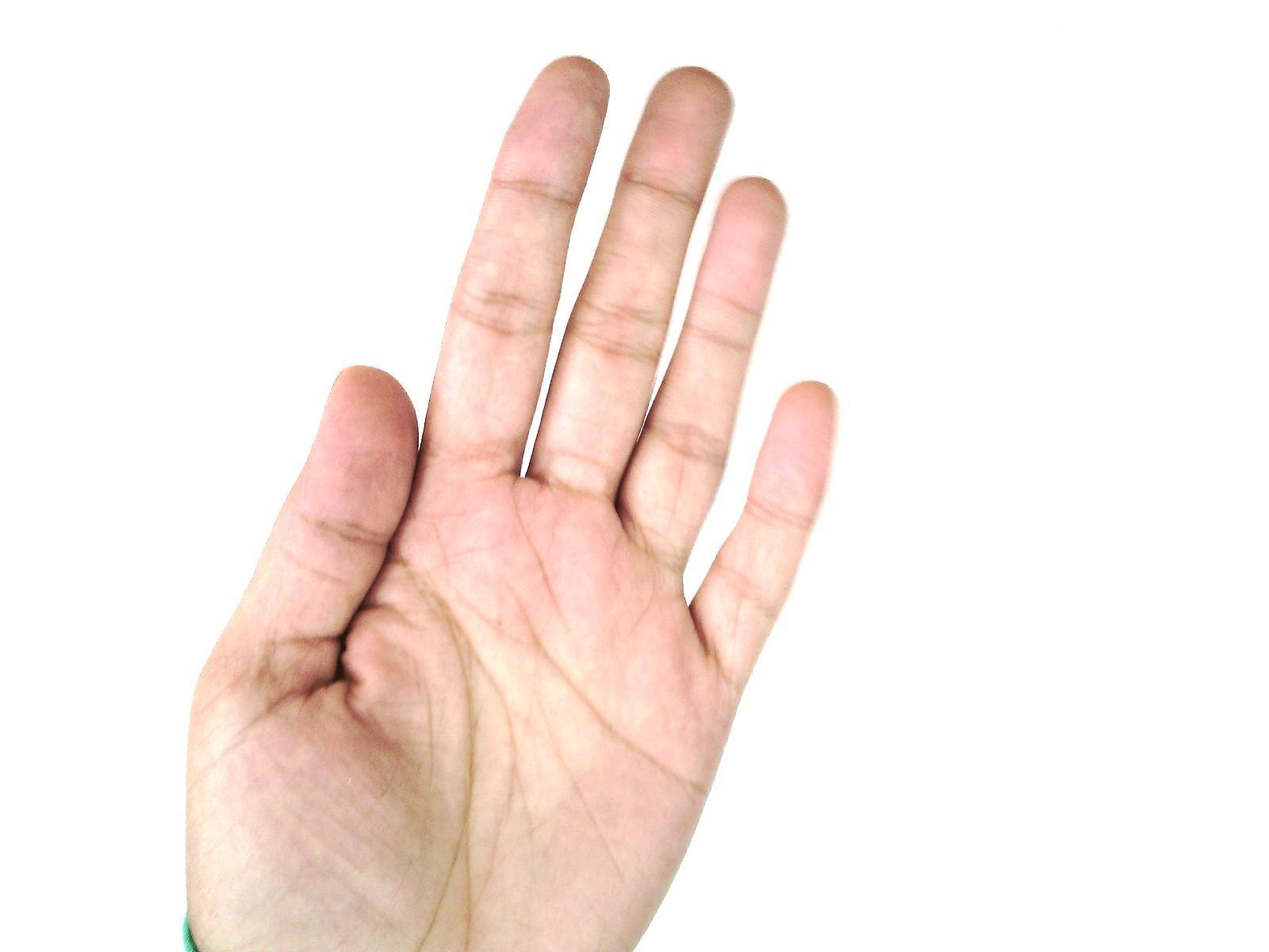open_palm: (180, 54, 842, 951)
